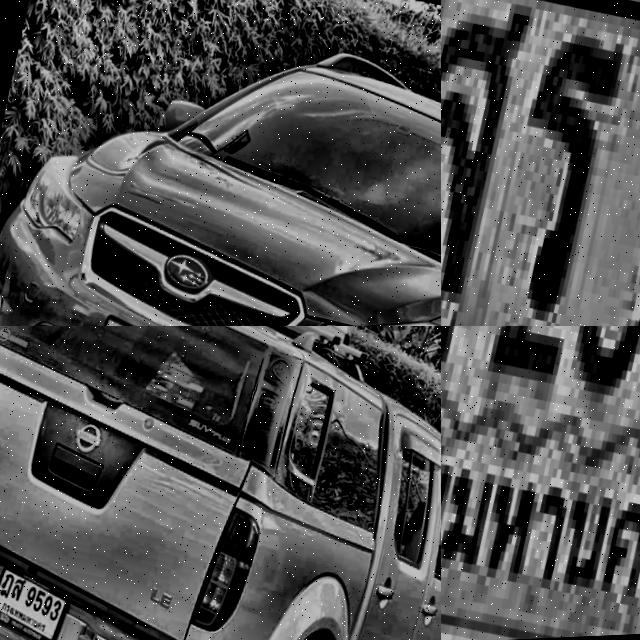license-plate: (441, 0, 640, 326), (441, 326, 640, 640), (0, 555, 76, 640)
